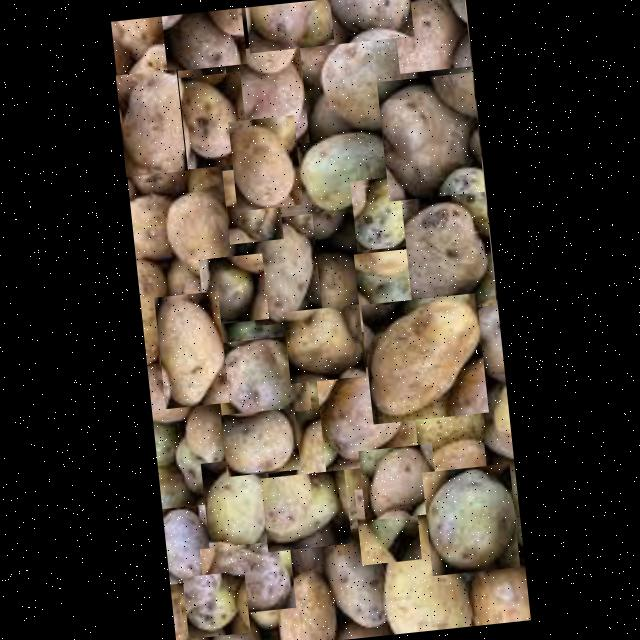Damaged potato: (316, 23, 428, 131), (401, 190, 496, 312), (316, 361, 420, 470), (223, 42, 309, 149), (154, 290, 229, 408), (155, 178, 237, 283), (214, 333, 311, 418), (318, 530, 396, 632), (170, 70, 249, 169), (199, 538, 296, 616), (228, 114, 302, 210), (283, 302, 366, 382), (358, 442, 438, 519), (391, 0, 471, 72), (220, 406, 300, 476), (162, 6, 246, 70), (268, 565, 337, 640), (245, 0, 339, 52), (160, 503, 212, 583), (329, 0, 413, 43)
Defected potato: (367, 504, 474, 636), (422, 462, 520, 575), (288, 412, 377, 533), (391, 374, 486, 476), (244, 212, 323, 325), (292, 128, 397, 212), (200, 456, 276, 556), (260, 468, 351, 550), (353, 246, 431, 331), (350, 172, 434, 250), (354, 482, 422, 564), (198, 252, 268, 324), (182, 570, 250, 638), (218, 300, 290, 364), (162, 428, 225, 499)
Diseased-fungal potato: (361, 292, 488, 423), (376, 71, 484, 200), (116, 68, 188, 176), (222, 164, 283, 243), (128, 190, 176, 258)
